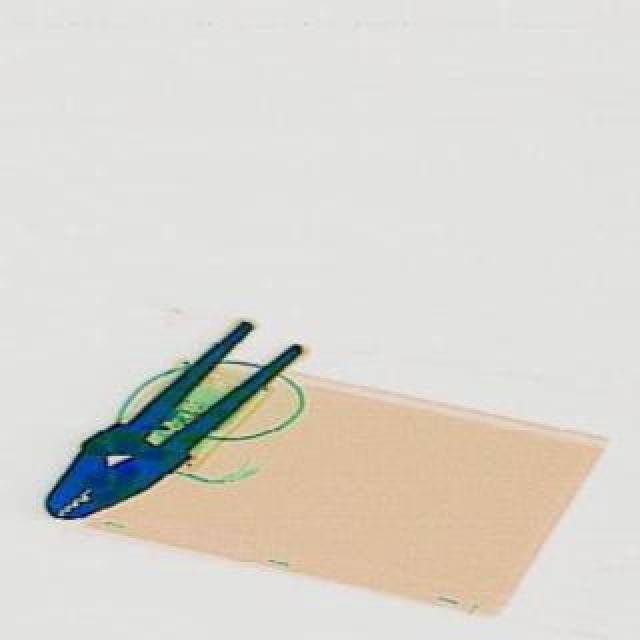wrench: (30, 292, 314, 548)
